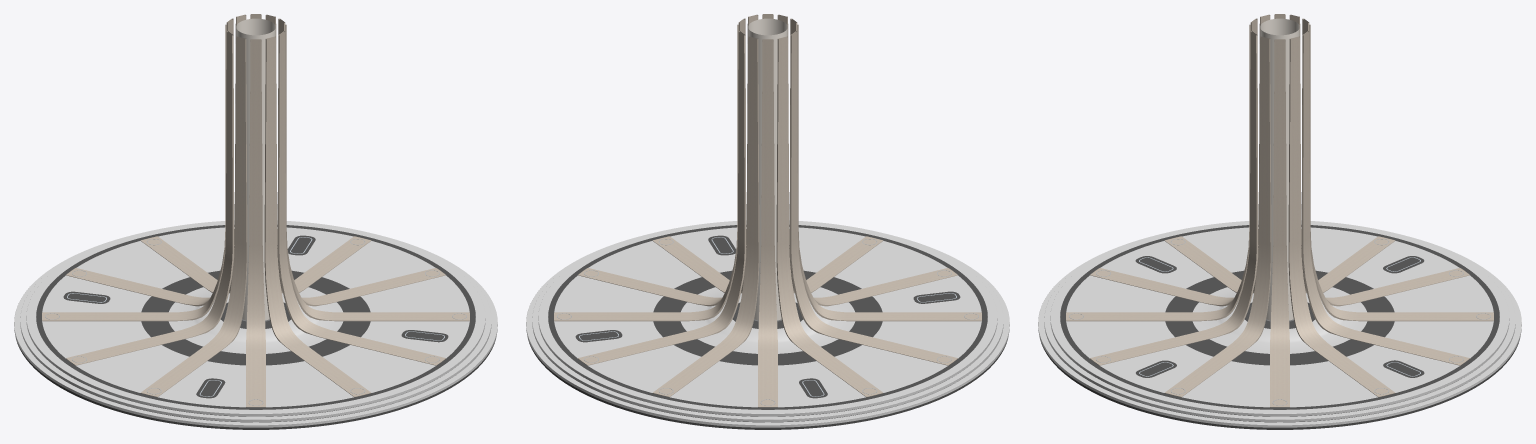
File: MMo_F_001_DC_e_22x22.fbx
The picture shows the model from 3 angles, left to right: view 1: azimuth 30°, elevation 25°; view 2: azimuth 150°, elevation 25°; view 3: azimuth 270°, elevation 25°; orthographic projection.
Visible parts, largest first — view 1: MMo_F_001_DC_e_22x22, MMo_F_001_DC_e_22x22_light; view 2: MMo_F_001_DC_e_22x22, MMo_F_001_DC_e_22x22_light; view 3: MMo_F_001_DC_e_22x22, MMo_F_001_DC_e_22x22_light.
Boxes of the visible parts, bbox=[...] form: MMo_F_001_DC_e_22x22: bbox=[14, 14, 497, 429]; MMo_F_001_DC_e_22x22_light: bbox=[236, 18, 275, 320]; MMo_F_001_DC_e_22x22: bbox=[526, 14, 1009, 429]; MMo_F_001_DC_e_22x22_light: bbox=[748, 18, 787, 320]; MMo_F_001_DC_e_22x22: bbox=[1038, 14, 1521, 429]; MMo_F_001_DC_e_22x22_light: bbox=[1260, 18, 1299, 320].
Bounding box in the file's own units: 22 × 15.1 × 22.
